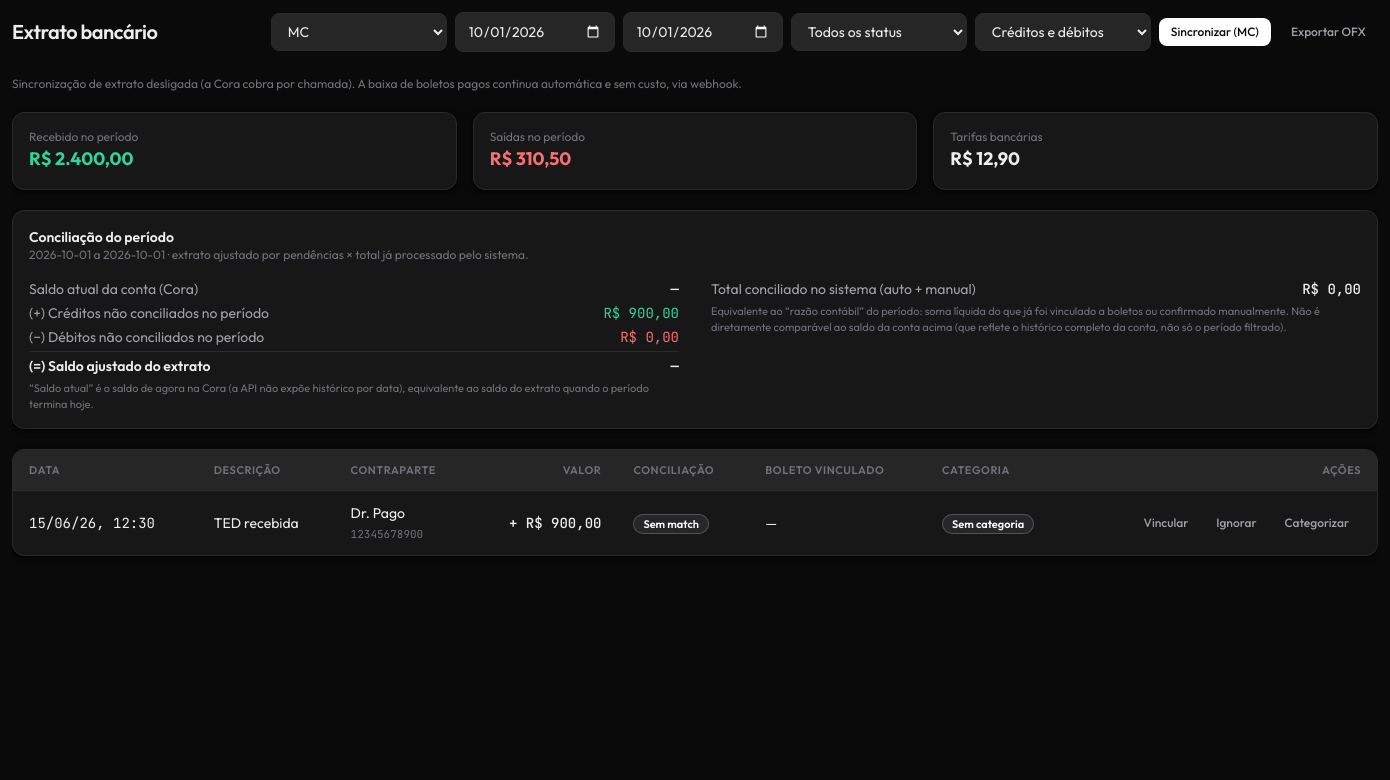
Test: ExtratoManager › ao clicar Sincronizar com a flag desligada no servidor, mostra aviso informativo (não erro)
This screenshot has width=1390, height=780.
Check: the table is shown, box [13,450,1377,555]
Click the button "Sincronizar (MC)" at (1215, 32), box [1159,18,1271,46]
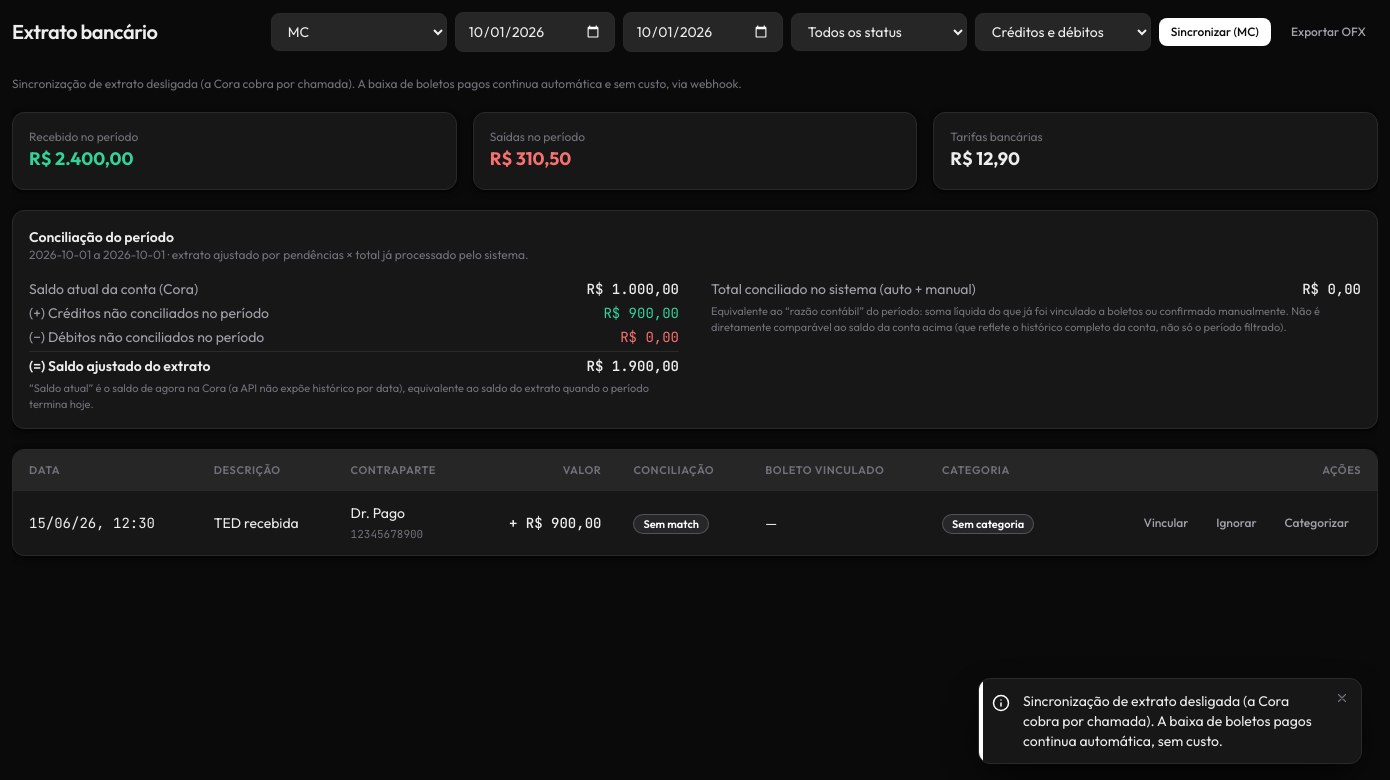
Check: the text "A baixa de boletos pagos continua automática, sem custo" is shown, box [1023,692,1312,750]
